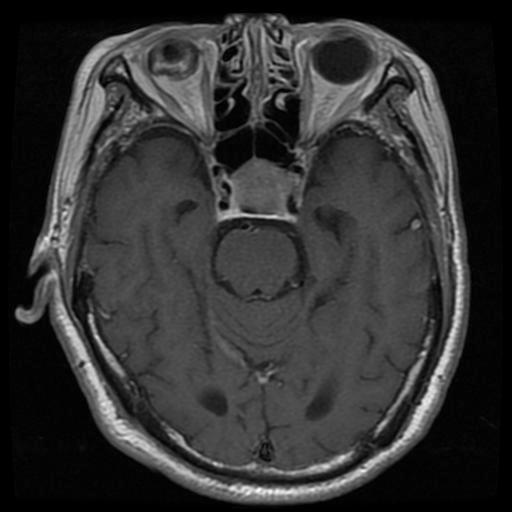Tumour-Pituitary: (205, 164, 313, 226)
